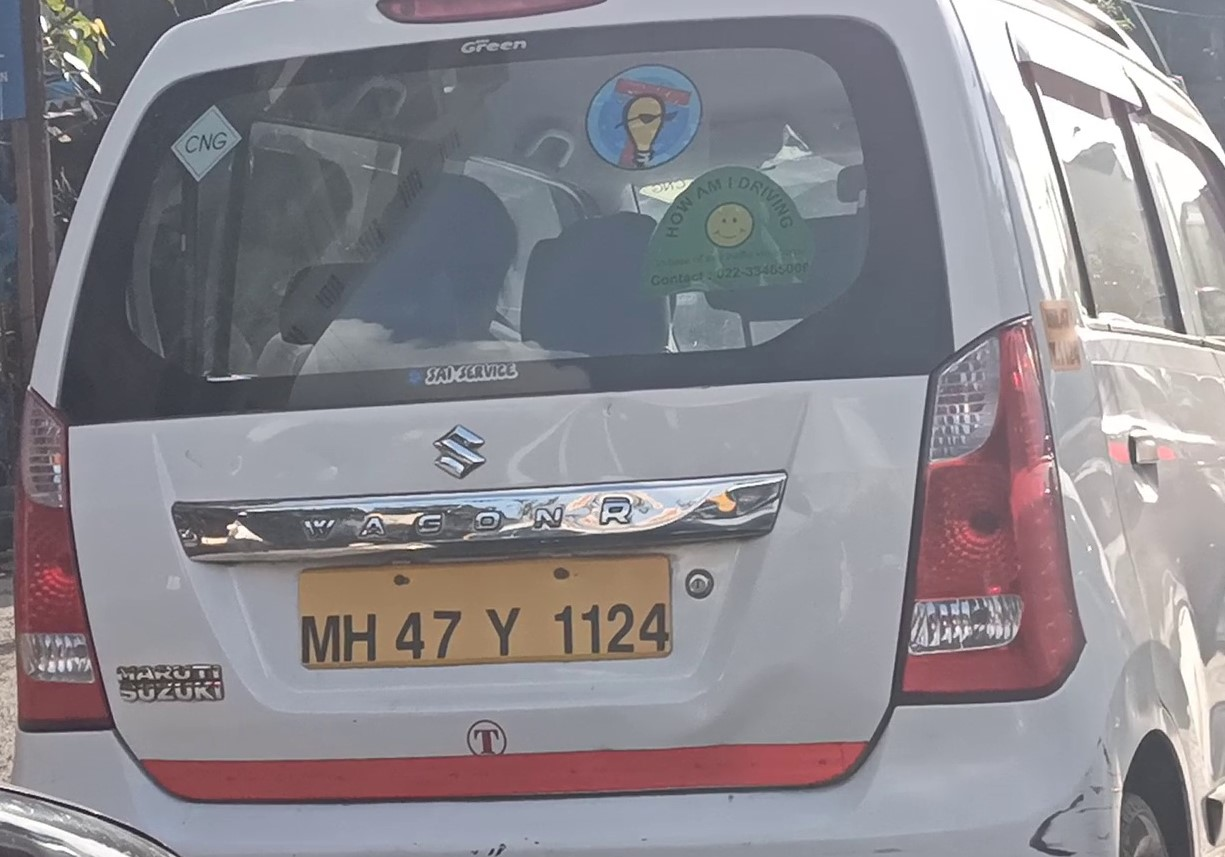MH47Y1124: (298, 556, 674, 658)
